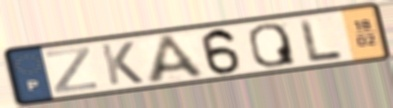6: (199, 27, 243, 76)
A: (145, 32, 210, 86)
K: (98, 39, 147, 87)
L: (296, 16, 346, 64)
Q: (246, 22, 299, 69)
Z: (44, 45, 100, 96)
